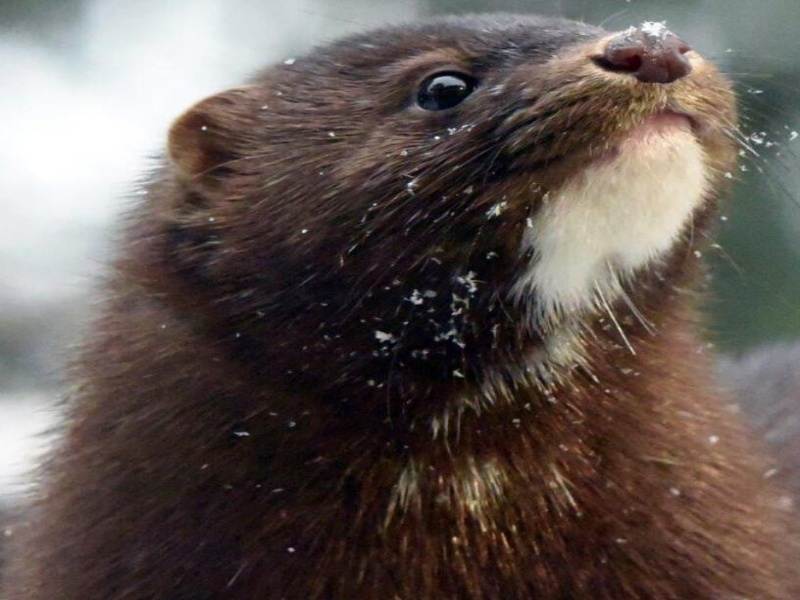minkish: (24, 13, 747, 594)
